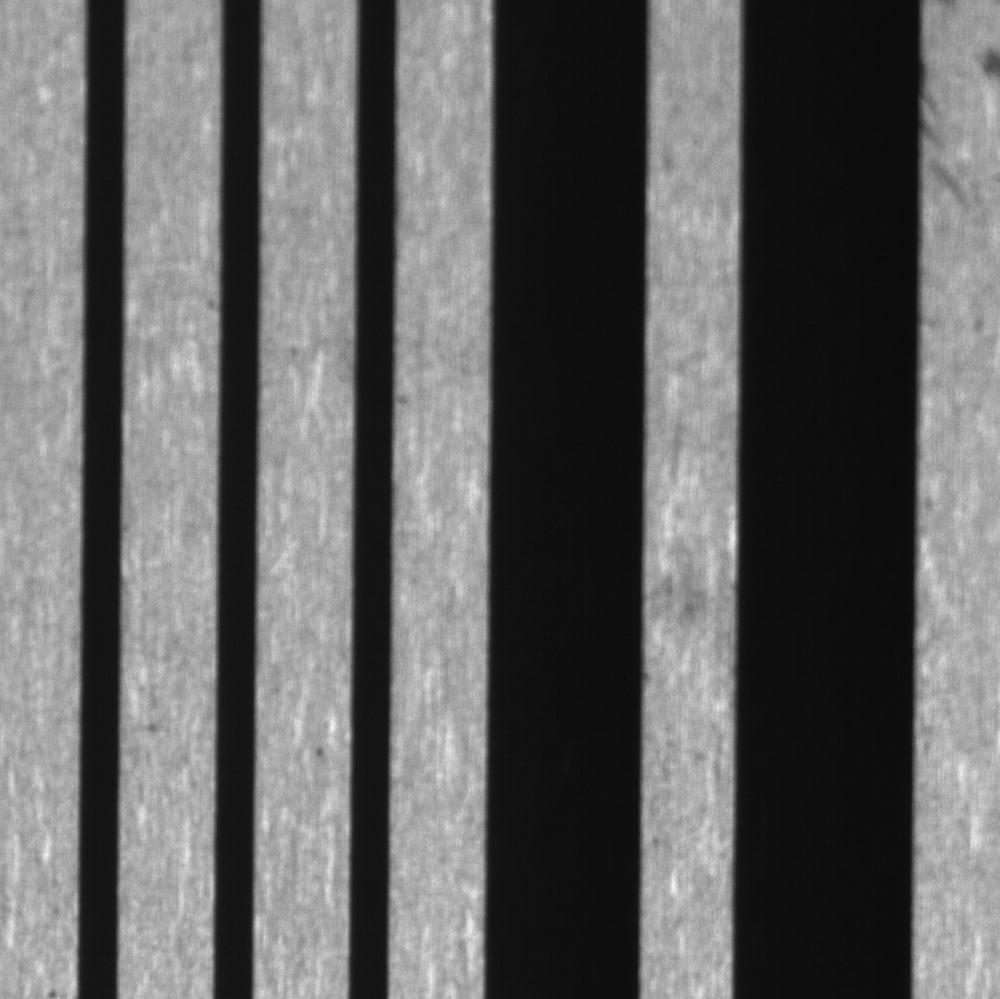Discolor: (639, 543, 735, 641)
Pinhole: (134, 700, 175, 754), (296, 732, 345, 777)
Scar: (920, 44, 979, 232)
